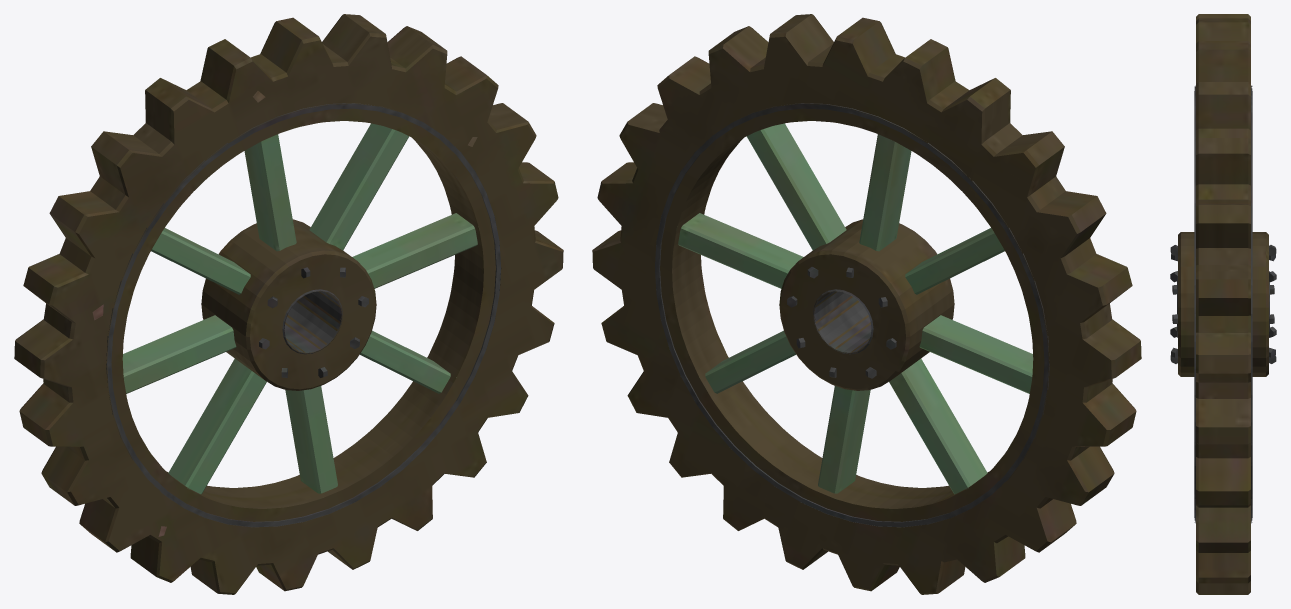
Rendered from Y27_large_brass_gear_v2.glb.
3 views of the same model, side by side, from view 1: azimuth 30°, elevation 25°; view 2: azimuth 150°, elevation 25°; view 3: azimuth 270°, elevation 25° (orthographic). The views are drawn at different scales.
Visible parts, largest first — view 1: Cast toothed brass rim; view 2: Cast toothed brass rim; view 3: Cast toothed brass rim.
Boxes of the visible parts, <box> form: Cast toothed brass rim: <box>14,14,563,594</box>; Cast toothed brass rim: <box>592,14,1141,594</box>; Cast toothed brass rim: <box>1170,14,1276,594</box>.
Bounding box in the file's own units: 1 × 1 × 0.1827.
4 materials, 4 textured.
